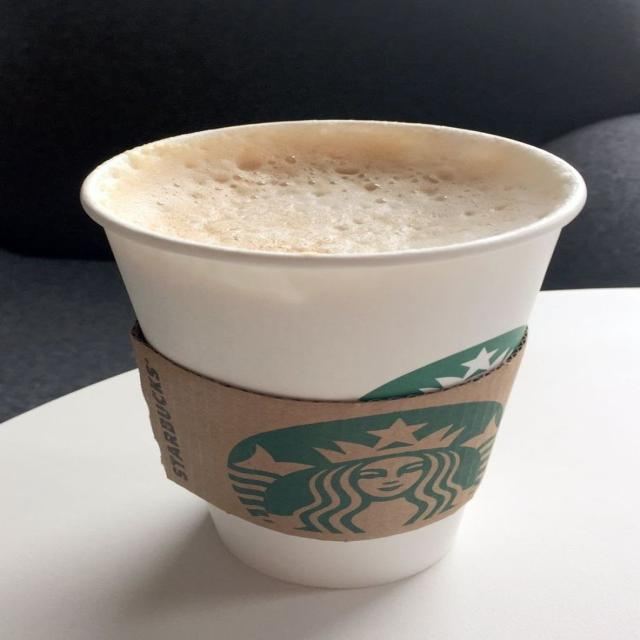paper cup: (81, 120, 587, 588)
